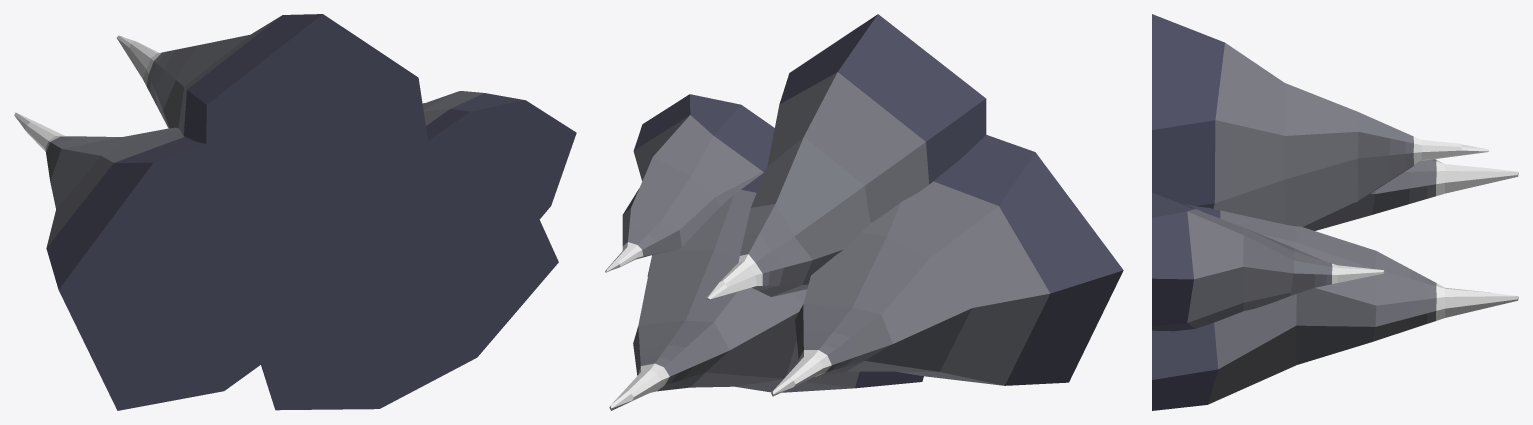
Rendered from mountain.fbx.
3 renders of one model, left to right at view 1: azimuth 30°, elevation 25°; view 2: azimuth 150°, elevation 25°; view 3: azimuth 270°, elevation 25°, orthographic. The views are drawn at different scales.
Visible parts, largest first — view 1: Cube; view 2: Cube; view 3: Cube.
Boxes of the visible parts, x1,y1,x2,y2 form: Cube: (14, 14, 576, 410); Cube: (605, 14, 1123, 410); Cube: (1152, 14, 1518, 410).
Bounding box in the file's own units: 11238 × 8474 × 7922.
